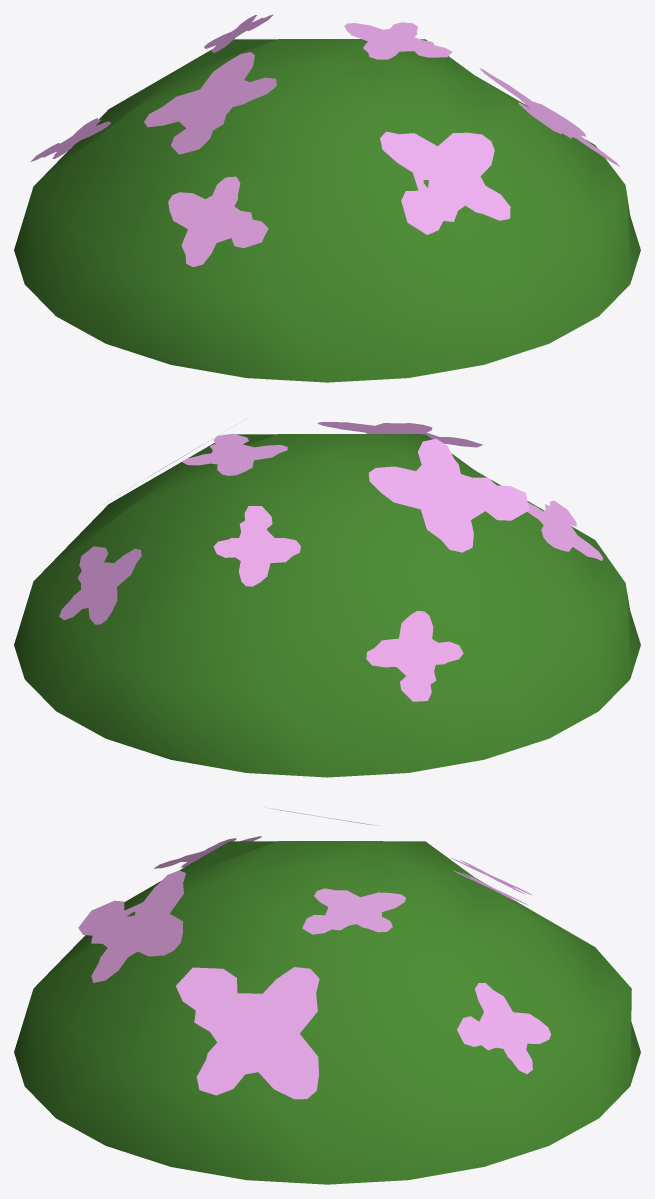
The model's file is BushFlow.fbx.
The picture shows the model from 3 angles, top to bottom: view 1: azimuth 30°, elevation 25°; view 2: azimuth 150°, elevation 25°; view 3: azimuth 270°, elevation 25°; orthographic projection.
Visible parts, largest first — view 1: pDisc10; view 2: pDisc10; view 3: pDisc10.
Part boxes in pixels (box(x1,y1,x2,y2)): pDisc10: box(14, 14, 640, 382); pDisc10: box(14, 419, 640, 777); pDisc10: box(14, 807, 640, 1184).
Bounding box in the file's own units: 4.99 × 1.8 × 4.99.
